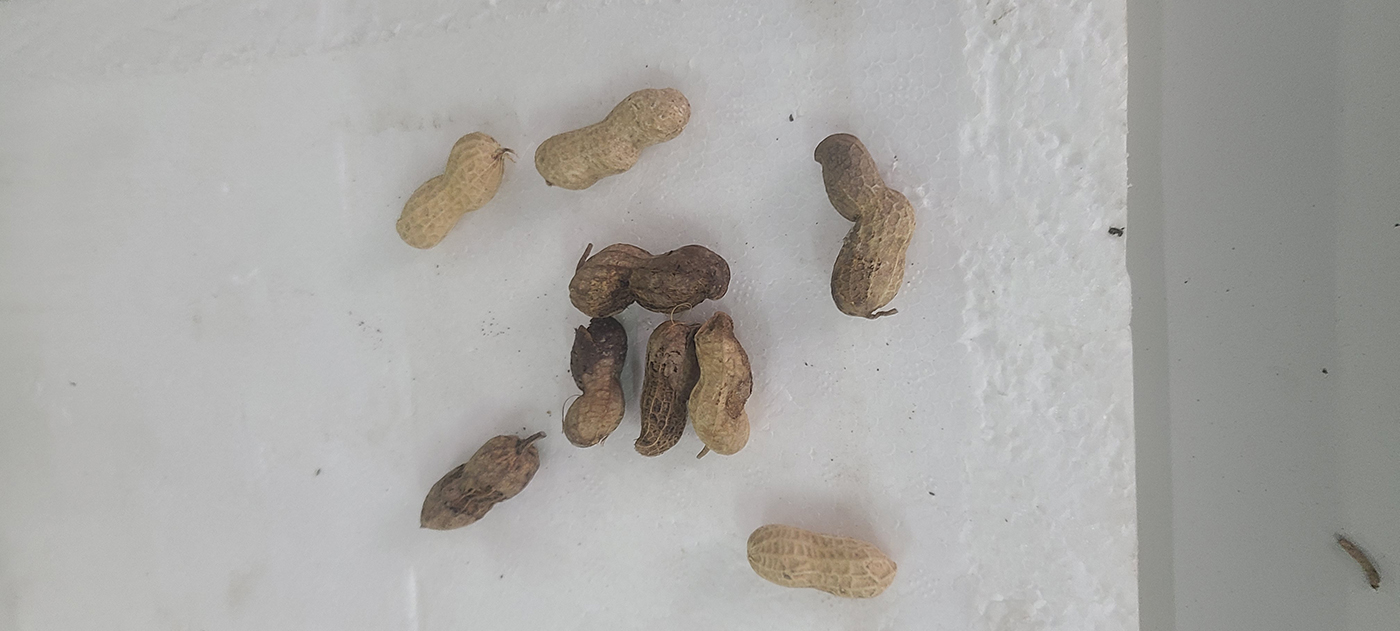h: (535, 88, 690, 190), (395, 132, 504, 250), (747, 525, 896, 597)
l: (815, 133, 917, 316), (568, 242, 731, 319), (418, 435, 539, 530), (690, 314, 752, 455), (563, 315, 626, 448), (635, 321, 693, 457)
